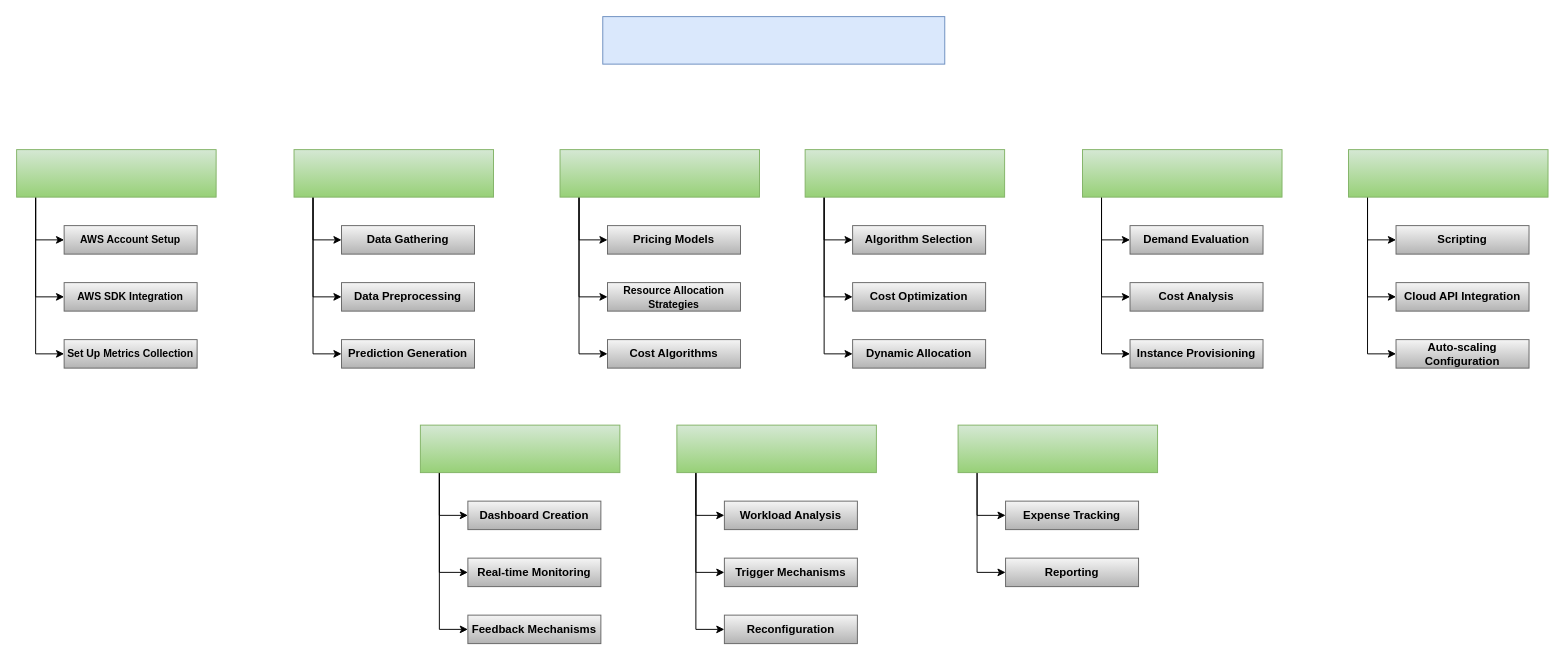
Image size: 1565x660. Some labels were removed from this diagram. Each missing label, with the centre of its shape:
Adaptation and Reoptimization: point (776, 448)
Cost Estimation: point (659, 173)
Cost Tracking and Analysis: point (1057, 448)
Demand Prediction: point (393, 173)
DYNAMIC CLOUD RESOURCE ALLOCATION OPTIMIZATION: point (773, 40)
Monitoring and Data Collection: point (116, 173)
Optimization Algorithm: point (904, 173)
Performance Monitoring and Feedback: point (519, 448)
Provisioning and Deployment Automation: point (1448, 173)
Resource Allocation Decision: point (1182, 173)
